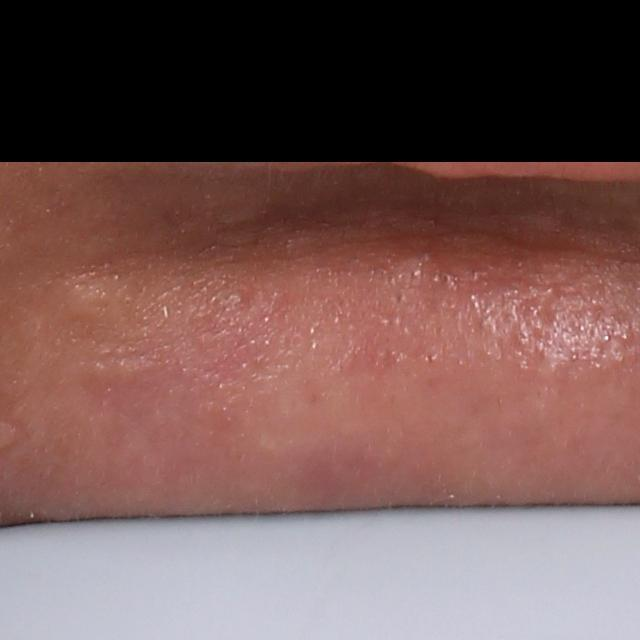hypertrophic_scar: (73, 347, 155, 385), (58, 278, 116, 320)
